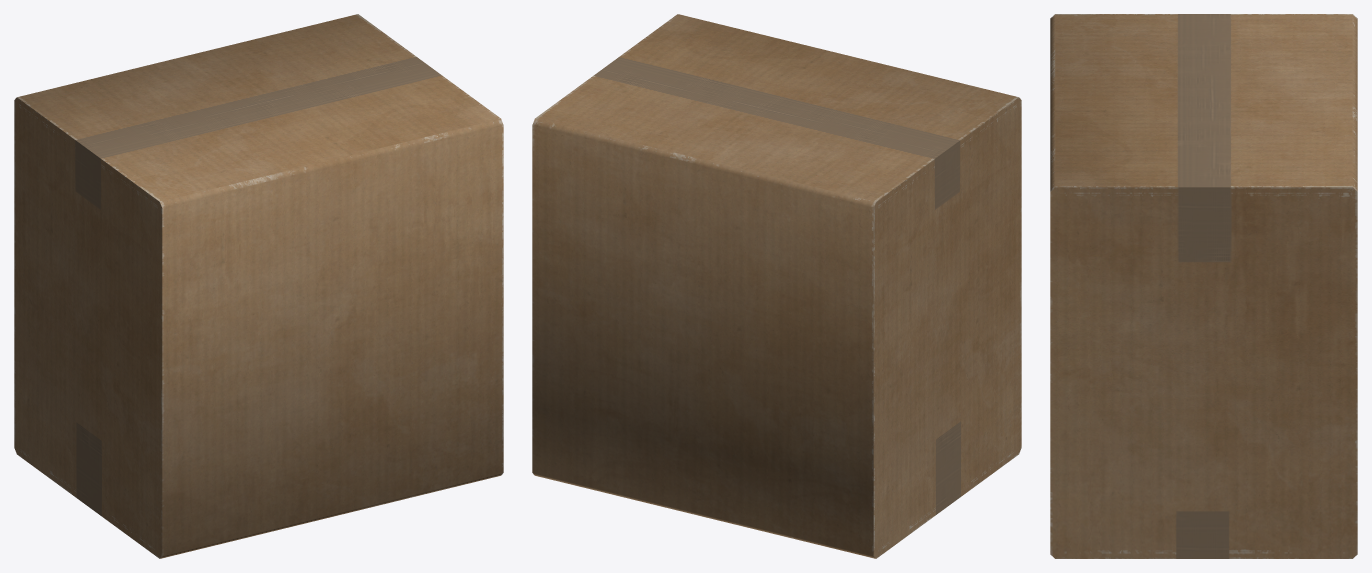
File: SM_CardboardBox_01.fbx
The picture shows the model from 3 angles, left to right: view 1: azimuth 30°, elevation 25°; view 2: azimuth 150°, elevation 25°; view 3: azimuth 270°, elevation 25°; orthographic projection. The views are drawn at different scales.
Parts seen in each view (by area): view 1: SM_CardboardBox_01_LOD0; view 2: SM_CardboardBox_01_LOD0; view 3: SM_CardboardBox_01_LOD0.
Boxes of the visible parts, left/top/right/bottom form: SM_CardboardBox_01_LOD0: left=14, top=14, right=503, bottom=558; SM_CardboardBox_01_LOD0: left=532, top=14, right=1021, bottom=558; SM_CardboardBox_01_LOD0: left=1050, top=14, right=1357, bottom=558.
Bounding box in the file's own units: 40 × 30 × 40.
1 material, 1 textured.
